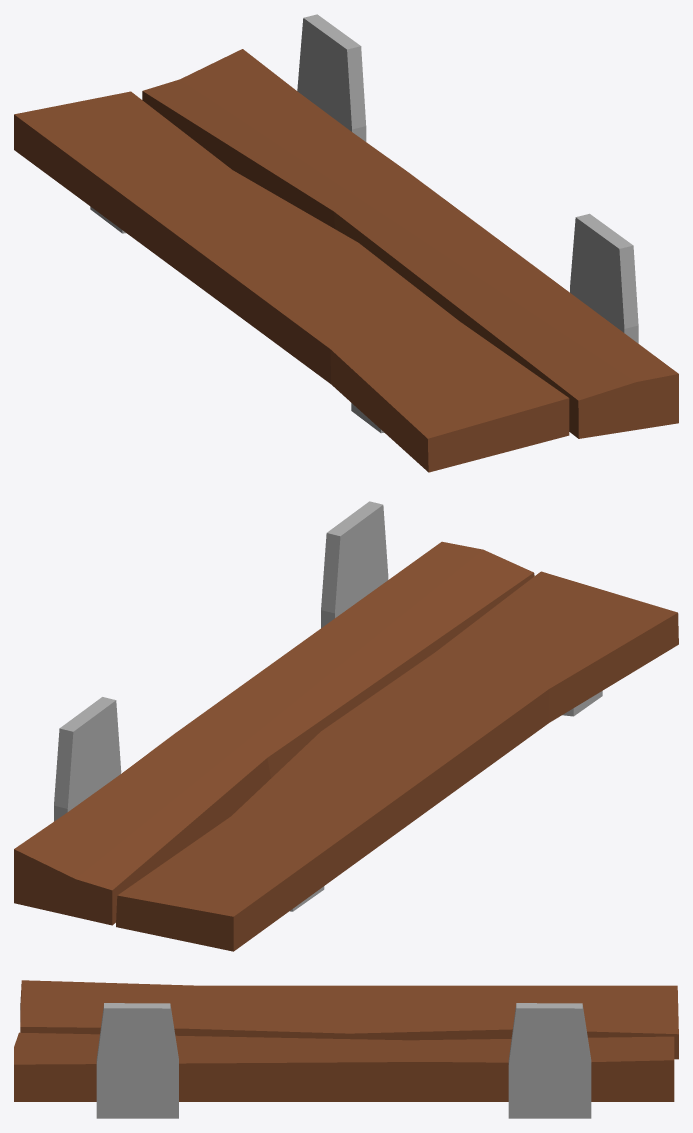
The model's file is shelveswood01.obj.
3 renders of one model, top to bottom at view 1: azimuth 30°, elevation 25°; view 2: azimuth 150°, elevation 25°; view 3: azimuth 270°, elevation 25°, orthographic. The views are drawn at different scales.
Visible parts, largest first — view 1: Cube.001_Cube.003; view 2: Cube.001_Cube.003; view 3: Cube.001_Cube.003.
Part boxes in pixels (x1=…): Cube.001_Cube.003: x1=14, y1=14, x2=678, y2=472; Cube.001_Cube.003: x1=14, y1=501, x2=678, y2=951; Cube.001_Cube.003: x1=14, y1=980, x2=678, y2=1118.
Bounding box in the file's own units: 0.2066 × 0.1107 × 0.6042.
